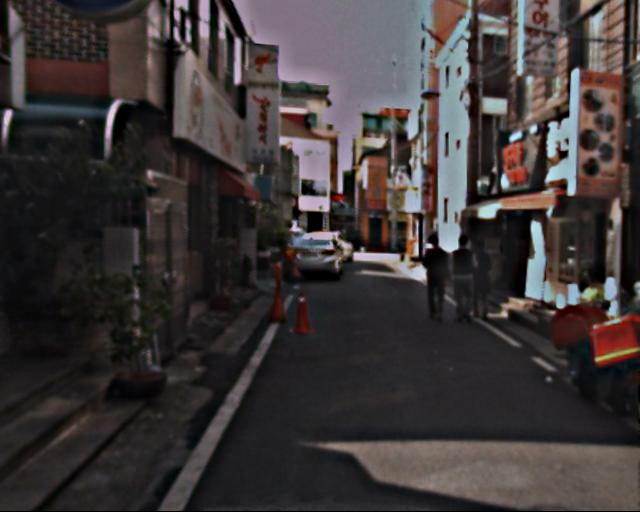person: (421, 236, 457, 325), (452, 235, 488, 324), (468, 235, 503, 320)
